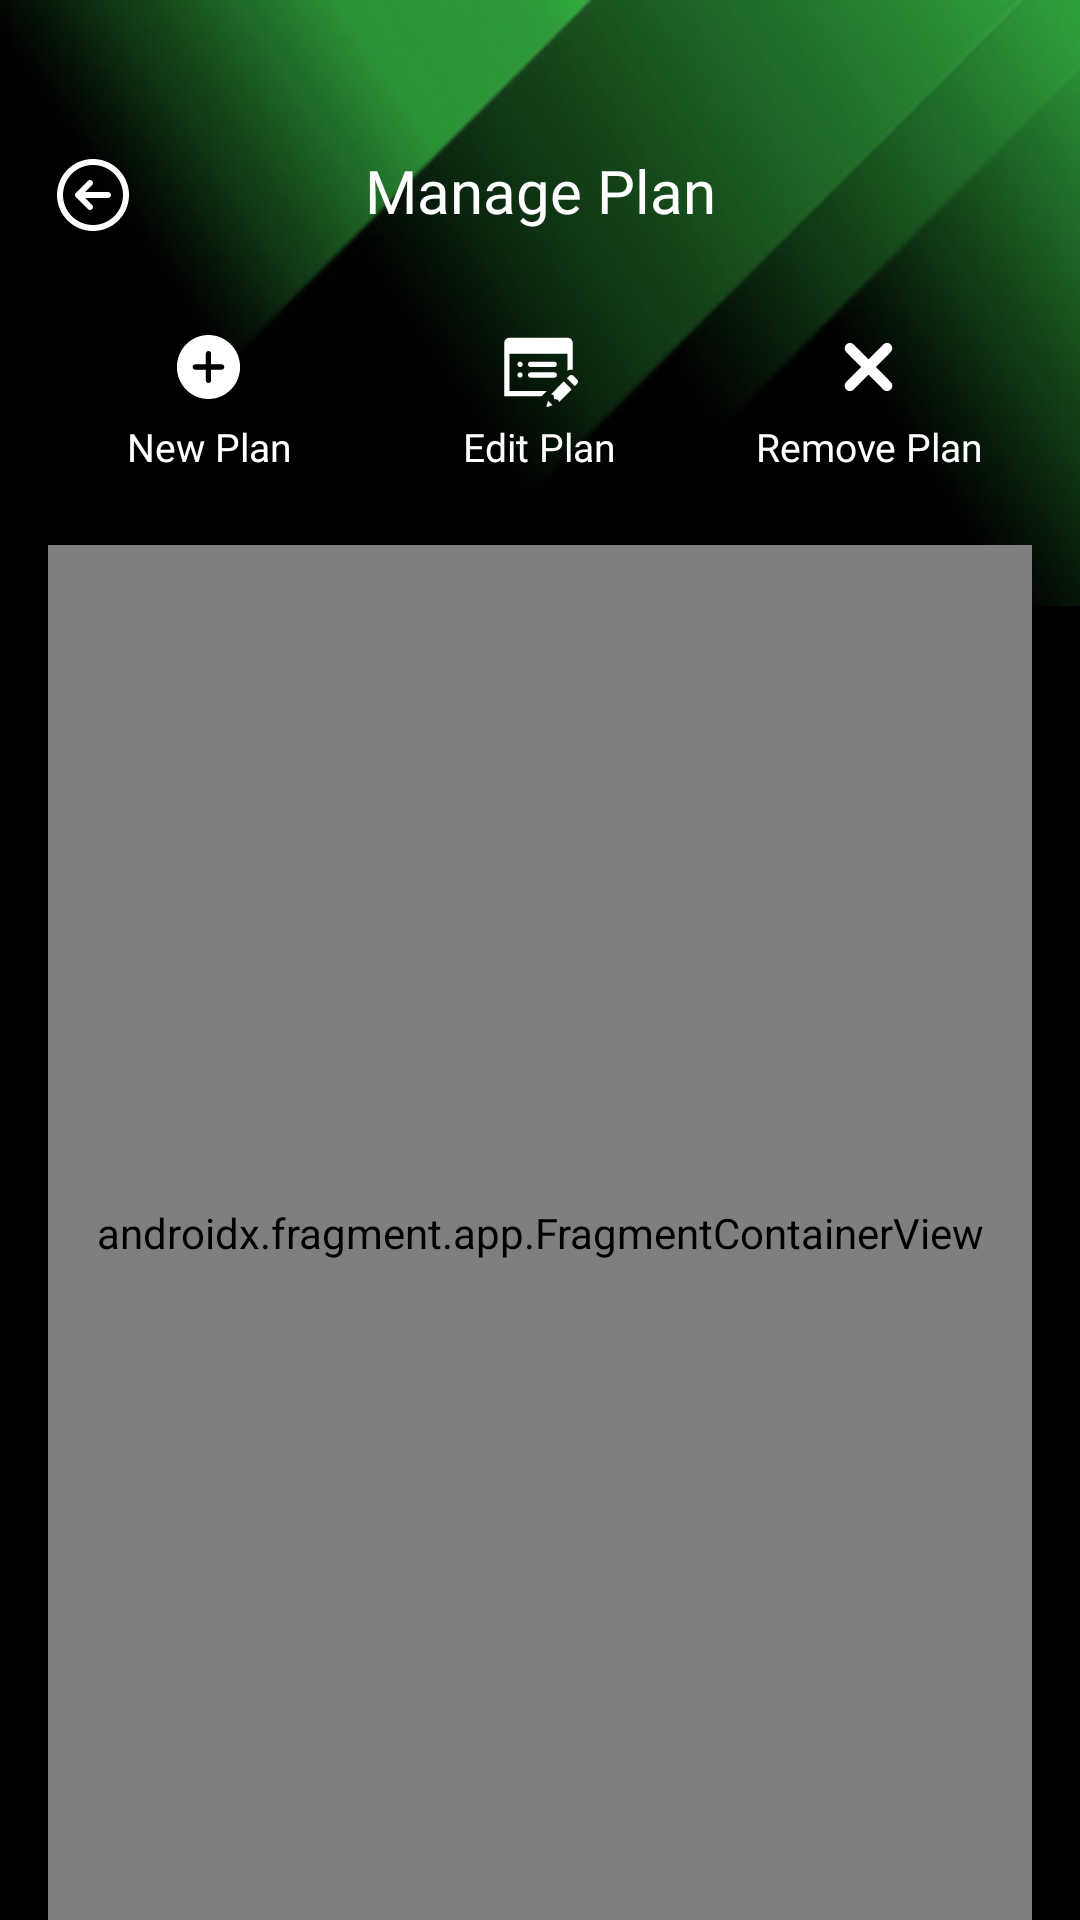

Named icons in this screenshot (1080*1920) and their centers, (x,y):
backicon: (93,195)
